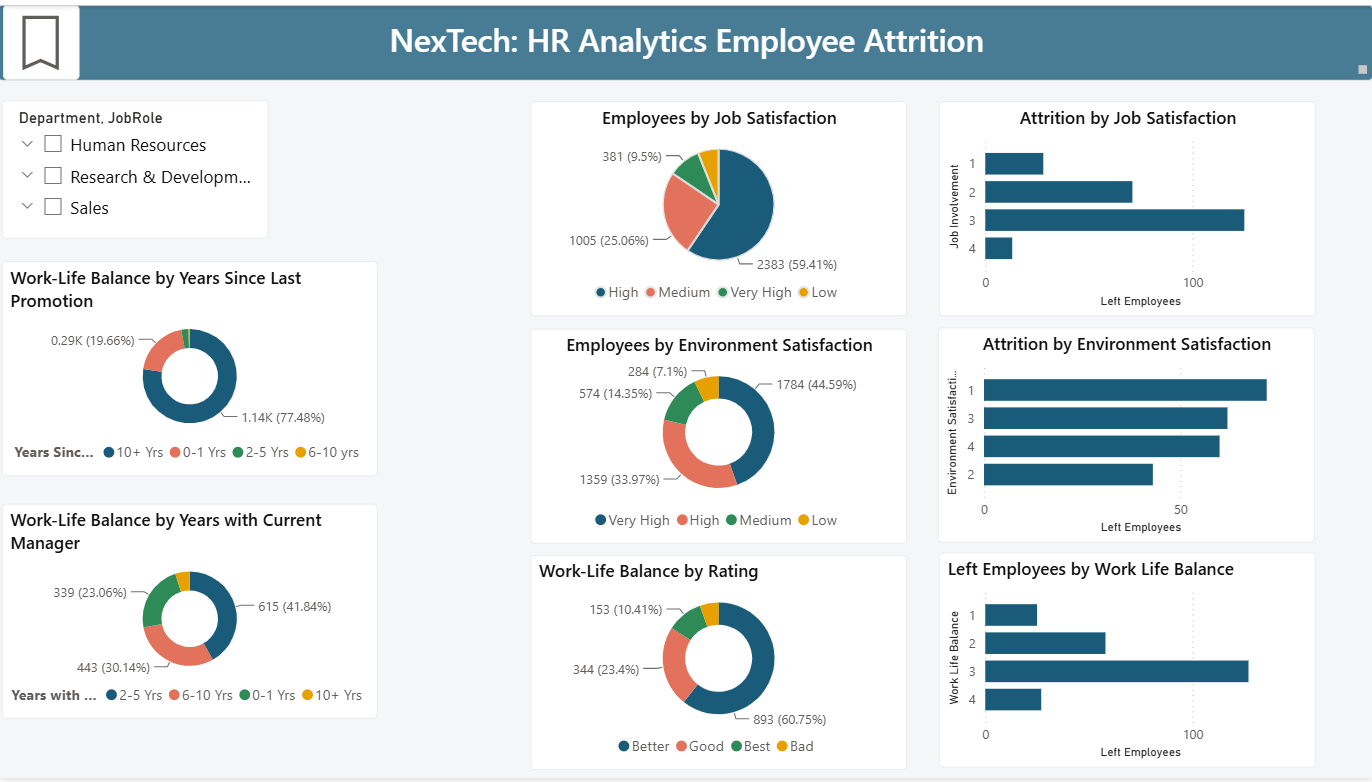

The page's visual inventory and layout, read from the dashboard file:
{"tool":"powerbi","page":{"name":"Survey Result","canvas":[1280,720],"ordinal":4},"visuals":[{"type":"pieChart","title":"Employees by Job Satisfaction","fields":{"Y":["Sum(Survey Input.JobSatisfaction)"],"Category":["JobInvolvementScale.Rating"]},"box":[495.5,89.3,350,200],"z":0},{"type":"barChart","title":"Attrition by Job Satisfaction","fields":{"Y":["All_Measures.Left Employees"],"Category":["JobSatisfactionScale.Rating"]},"box":[875.1,89.8,350,200],"z":1000},{"type":"textbox","title":"NexTech: Survey Result Analysis","box":[0,0,1279.8,70],"z":2000},{"type":"slicer","fields":{"Values":["Survey Input.Department","Survey Input.JobRole"]},"box":[3.7,88.3,247.9,128.8],"z":3000},{"type":"donutChart","title":"Employees by Environment Satisfaction","fields":{"Y":["Sum(Survey Input.EnvironmentSatisfaction)"],"Category":["EnvironmentSatisfactionScale.Rating"]},"box":[495.5,301.6,350,200],"z":4000},{"type":"barChart","title":"Attrition by Environment Satisfaction","fields":{"Category":["EnvironmentSatisfactionScale.Rating"],"Y":["All_Measures.Left Employees"]},"box":[874.9,299.6,350,200],"z":5000},{"type":"donutChart","fields":{"Category":["WorkLifeBalanceScale.Rating"],"Y":["CountNonNull(Survey Input.WorkLifeBalance)"]},"box":[495.5,511.4,350,200],"z":6000},{"type":"barChart","title":"Attrition by Work-Life Balance","fields":{"Category":["WorkLifeBalanceScale.Rating"],"Y":["All_Measures.Left Employees"]},"box":[876.1,509.5,350,200],"z":7000},{"type":"donutChart","title":"Job Satisfaction by Last Promotion","fields":{"Y":["CountNonNull(Survey Input.YearsSinceLastPromotionBins)"],"Category":["JobSatisfactionScale.Rating"]},"box":[3.7,238,349.7,200],"z":8000},{"type":"donutChart","title":"Job Satisfaction by Current Manager","fields":{"Y":["CountNonNull(Survey Input.YearsWithCurrManagerBins)"],"Category":["JobSatisfactionScale.Rating"]},"box":[3.7,463.8,349.7,200],"z":9000},{"type":"actionButton","box":[4.9,0,71.2,69.9],"z":10000}]}

Visuals, with their boxes in screenshot pixels (x1, y1, x2, y2), scaled from the page's 1280x720 canvas onto the 1372x782 screenshot:
"Employees by Job Satisfaction" pieChart: bbox=[531, 97, 906, 314]
"Attrition by Job Satisfaction" barChart: bbox=[938, 98, 1313, 315]
"NexTech: Survey Result Analysis" textbox: bbox=[0, 0, 1371, 76]
slicer - Survey Input.Department x Survey Input.JobRole: bbox=[4, 96, 270, 236]
"Employees by Environment Satisfaction" donutChart: bbox=[531, 328, 906, 545]
"Attrition by Environment Satisfaction" barChart: bbox=[938, 325, 1313, 543]
donutChart - WorkLifeBalanceScale.Rating x CountNonNull(Survey Input.WorkLifeBalance): bbox=[531, 555, 906, 773]
"Attrition by Work-Life Balance" barChart: bbox=[939, 553, 1314, 771]
"Job Satisfaction by Last Promotion" donutChart: bbox=[4, 258, 379, 476]
"Job Satisfaction by Current Manager" donutChart: bbox=[4, 504, 379, 721]
actionButton: bbox=[5, 0, 82, 76]
